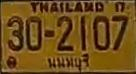0: (92, 16, 109, 50), (26, 16, 42, 50)
1: (80, 15, 85, 50)
2: (57, 15, 72, 50)
3: (7, 15, 23, 50)
7: (112, 15, 128, 50)
NBI: (47, 53, 92, 70)
